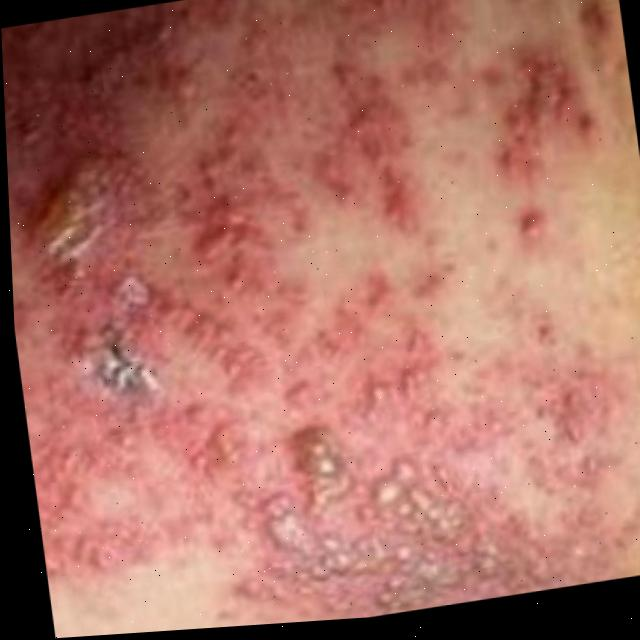Shingles: (0, 0, 638, 640)
